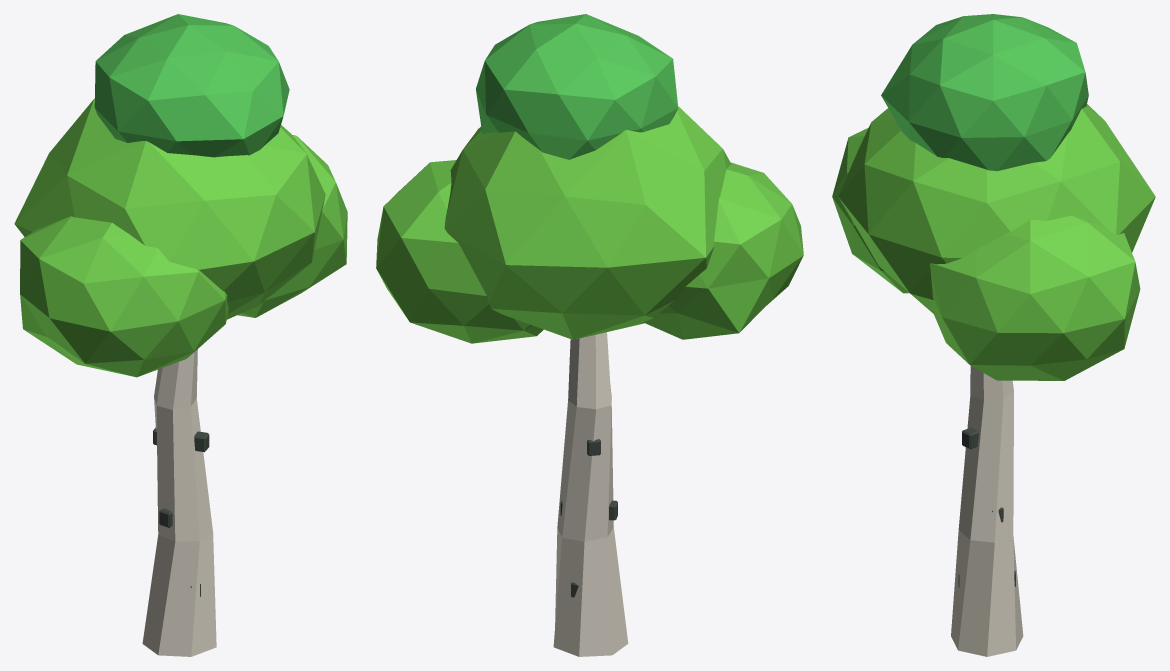
Rendered from EM_BirchTree_Slender.glb.
3 views of the same model, side by side, from view 1: azimuth 30°, elevation 25°; view 2: azimuth 150°, elevation 25°; view 3: azimuth 270°, elevation 25° (orthographic). The views are drawn at different scales.
Visible parts, largest first — view 1: EM_BirchTree_Slender__LeafBirch, EM_BirchTree_Slender__LeafOakHi, EM_BirchTree_Slender__BarkBirch, EM_BirchTree_Slender__StoneDark; view 2: EM_BirchTree_Slender__LeafBirch, EM_BirchTree_Slender__LeafOakHi, EM_BirchTree_Slender__BarkBirch; view 3: EM_BirchTree_Slender__LeafBirch, EM_BirchTree_Slender__LeafOakHi, EM_BirchTree_Slender__BarkBirch.
Part boxes in pixels (box(x1,y1,x2,y2)): EM_BirchTree_Slender__LeafBirch: box(14, 98, 347, 377); EM_BirchTree_Slender__LeafOakHi: box(94, 14, 289, 157); EM_BirchTree_Slender__BarkBirch: box(142, 349, 216, 656); EM_BirchTree_Slender__StoneDark: box(153, 427, 209, 596); EM_BirchTree_Slender__LeafBirch: box(376, 106, 803, 343); EM_BirchTree_Slender__LeafOakHi: box(476, 14, 678, 159); EM_BirchTree_Slender__BarkBirch: box(553, 332, 628, 656); EM_BirchTree_Slender__LeafBirch: box(832, 104, 1155, 380); EM_BirchTree_Slender__LeafOakHi: box(881, 14, 1088, 171); EM_BirchTree_Slender__BarkBirch: box(951, 366, 1023, 656).
Bounding box in the file's own units: 13.13 × 22.29 × 10.46.
